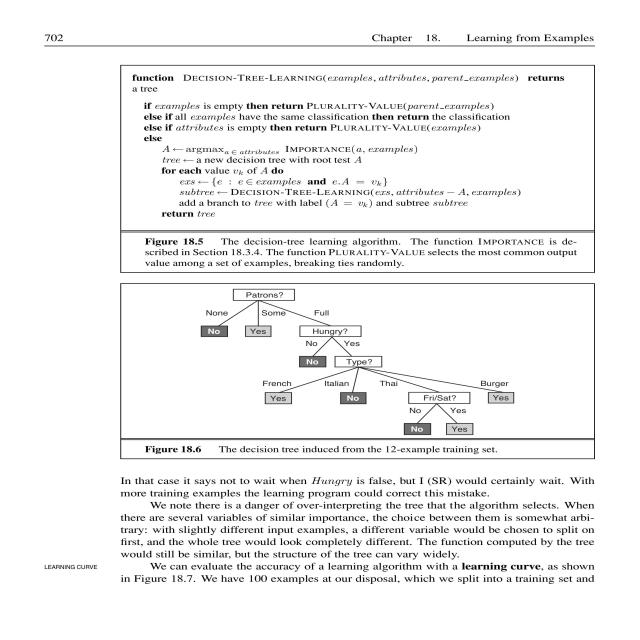diagram: (120, 284, 560, 458)
